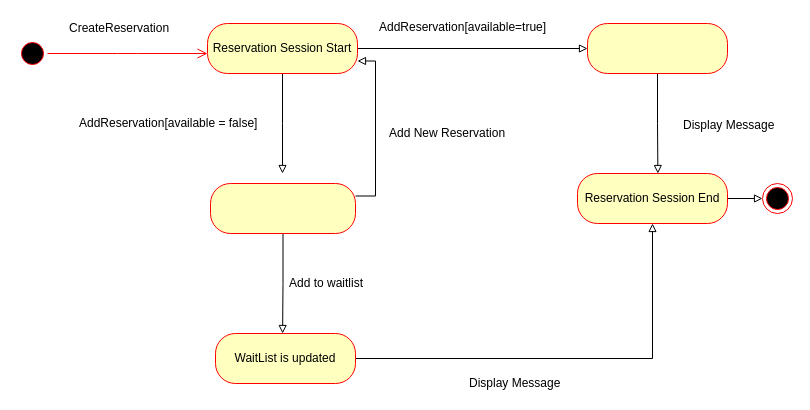
The diagram is 810 pixels wide and 410 high, and some of its shapes have lost their labels. The box of each missing label's shape, as (x1, y1, x2, y2) in pixels:
Prompts user for a selection: (210, 182, 356, 234)
Reservation list is updated: (586, 22, 728, 74)
